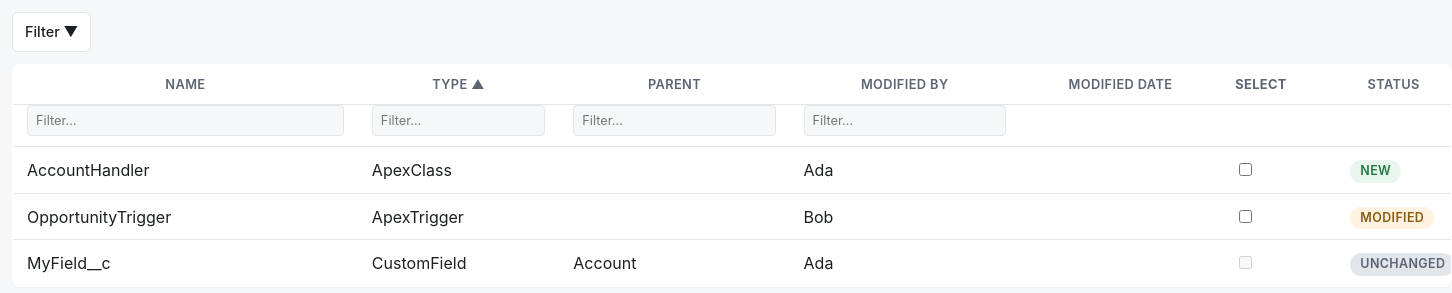
DiffTable › per-column search › filters by Type independently of Name
In the field named "filter by type": coordinates (459, 120) [372,105,545,136], type "Trigger"
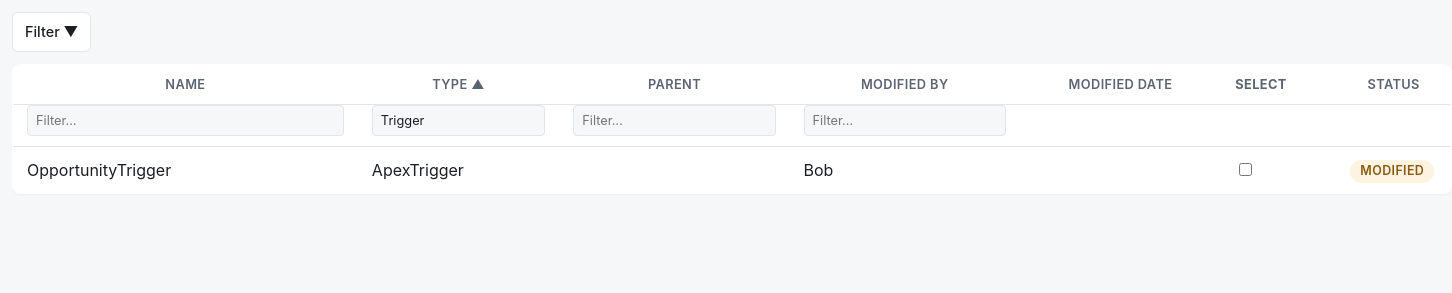
Expected: the text "OpportunityTrigger" is shown, [12,146,358,193]
Now the text "AccountHandler" is gone
Now the text "MyField__c" is gone
